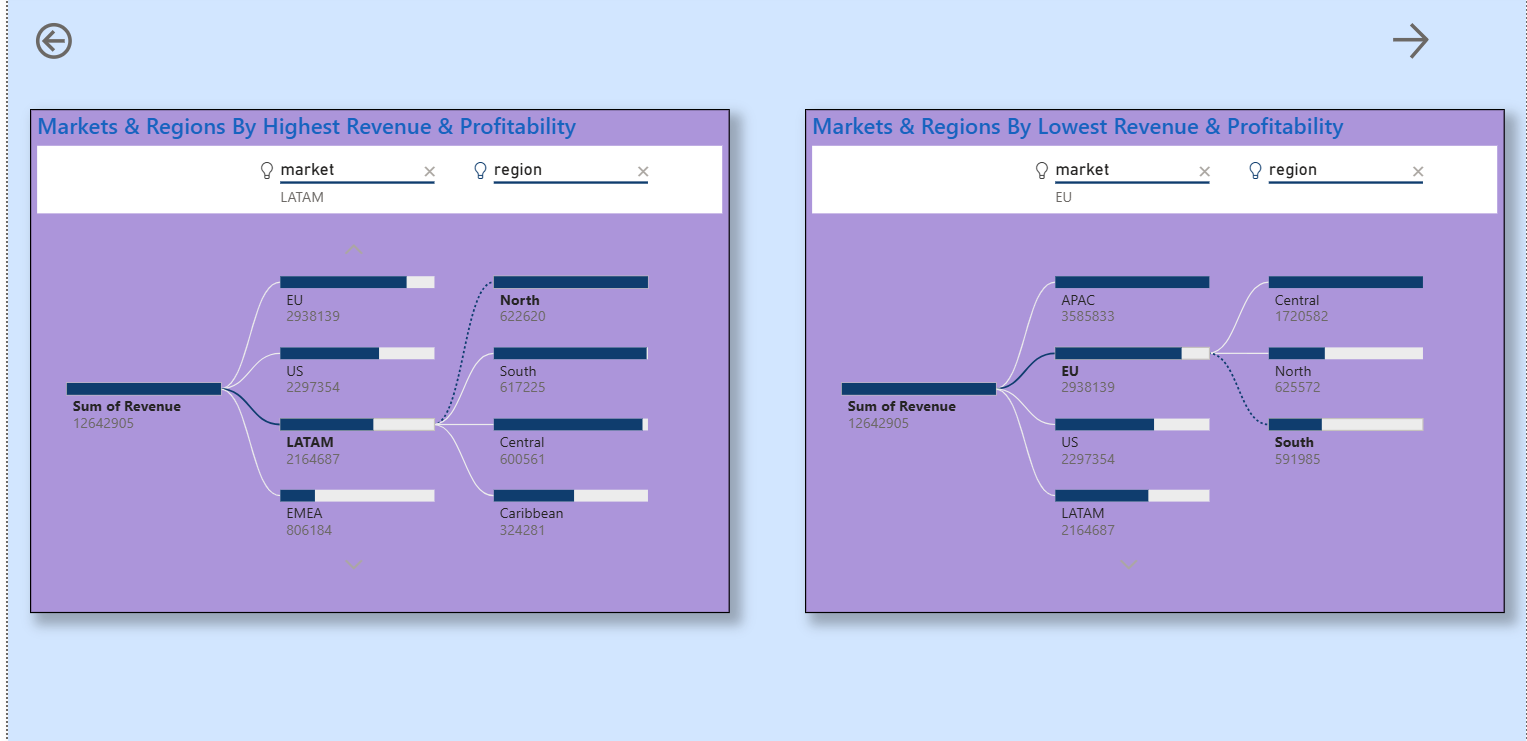

What the dashboard file says about the page in this screenshot:
{"tool":"powerbi","page":{"name":"Page 1","canvas":[1280,720],"ordinal":1},"visuals":[{"type":"decompositionTreeVisual","title":"Markets & Regions By Highest Revenue & Profitability ","fields":{"Analyze":["Sum(super store dataset.Revenue)"],"ExplainBy":["super store dataset.market","super store dataset.region"]},"box":[18.5,95.7,589.6,425],"z":0},{"type":"decompositionTreeVisual","title":"Markets & Regions By Lowest Revenue & Profitability","fields":{"Analyze":["Sum(super store dataset.Revenue)"],"ExplainBy":["super store dataset.market","super store dataset.region"]},"box":[671.9,95.7,589.6,425],"z":1000},{"type":"actionButton","box":[18.5,18.5,100.8,40.3],"z":2000},{"type":"actionButton","box":[1162.1,18.7,99.4,40.3],"z":3000}]}

Visuals, with their boxes on the page's 1280x720 design canvas (x1, y1, x2, y2). These are canvas units, not pixel positions in the 1527x741 screenshot, which may show the page scaled, cropped or inside an application window:
"Markets & Regions By Highest Revenue & Profitability " decompositionTreeVisual: l=18, t=96, r=608, b=521
"Markets & Regions By Lowest Revenue & Profitability" decompositionTreeVisual: l=672, t=96, r=1262, b=521
actionButton: l=18, t=18, r=119, b=59
actionButton: l=1162, t=19, r=1262, b=59
